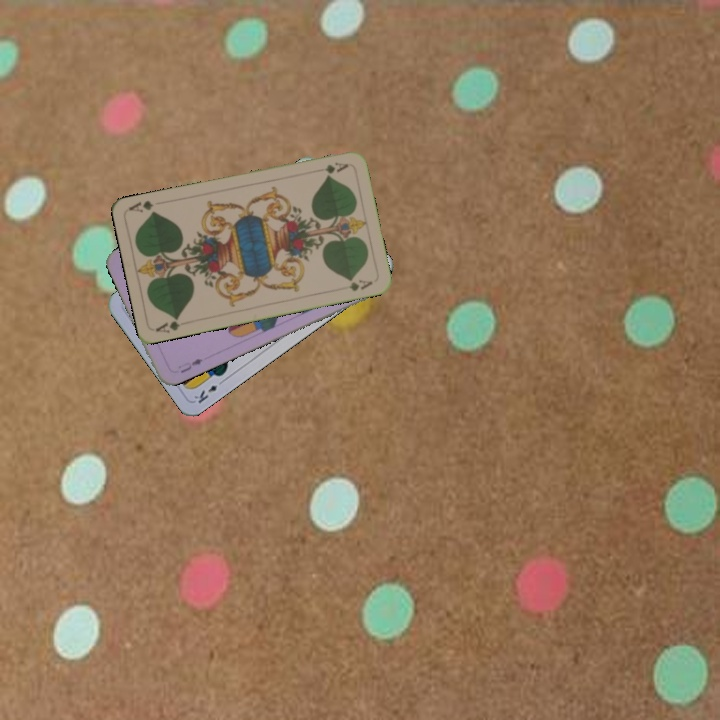EK: (190, 375, 227, 406)
EU: (174, 354, 205, 376)
GA: (311, 158, 351, 176), (152, 312, 183, 335)
